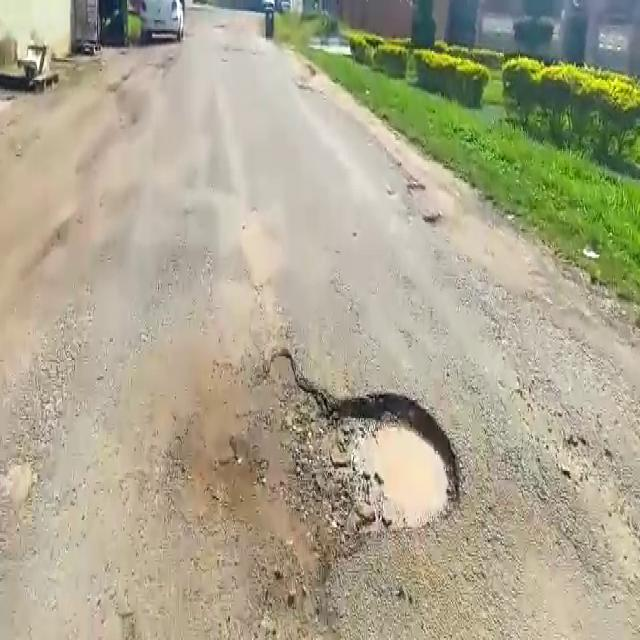Pothole: (194, 348, 461, 590), (0, 452, 40, 514)
